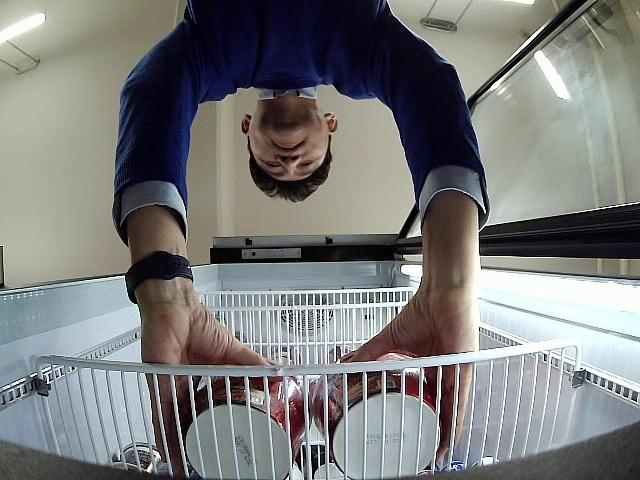00_hand: (340, 265, 479, 463), (136, 290, 281, 476)
01_shinRamen_L: (310, 353, 442, 479), (183, 376, 312, 479)
